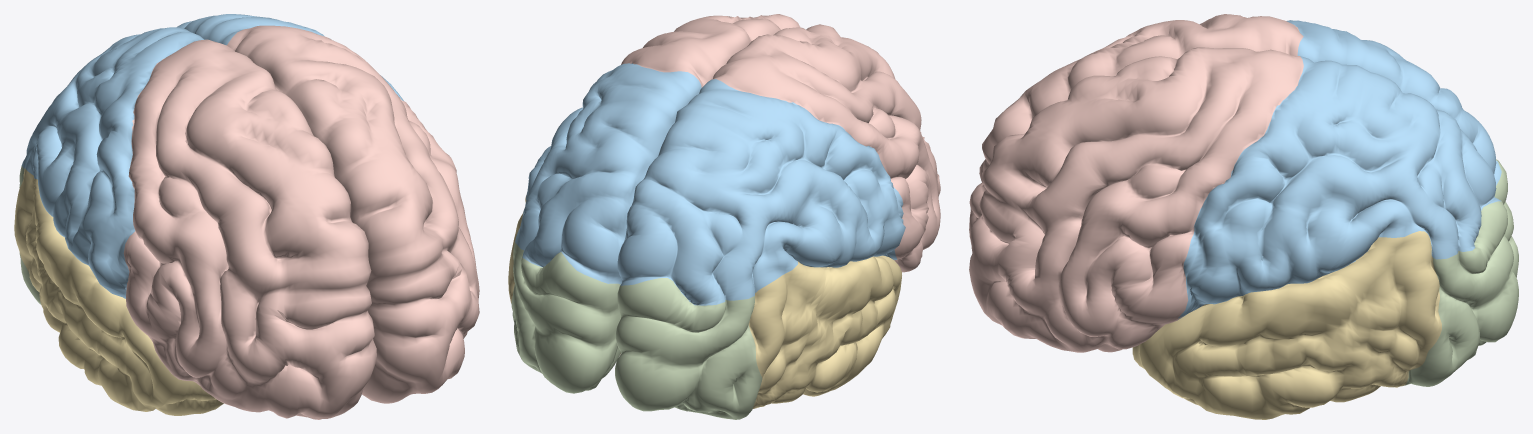
The model's file is Cerebro.fbx.
The picture shows the model from 3 angles, left to right: view 1: azimuth 30°, elevation 25°; view 2: azimuth 150°, elevation 25°; view 3: azimuth 270°, elevation 25°; orthographic projection. The views are drawn at different scales.
Parts seen in each view (by area): view 1: Female_Nervous_Cerebrum_Multicolor; view 2: Female_Nervous_Cerebrum_Multicolor; view 3: Female_Nervous_Cerebrum_Multicolor.
Boxes of the visible parts, x1,y1,x2,y2 form: Female_Nervous_Cerebrum_Multicolor: [14, 14, 479, 419]; Female_Nervous_Cerebrum_Multicolor: [508, 14, 940, 419]; Female_Nervous_Cerebrum_Multicolor: [969, 14, 1518, 419].
Bounding box in the file's own units: 12.11 × 11.16 × 17.15.
